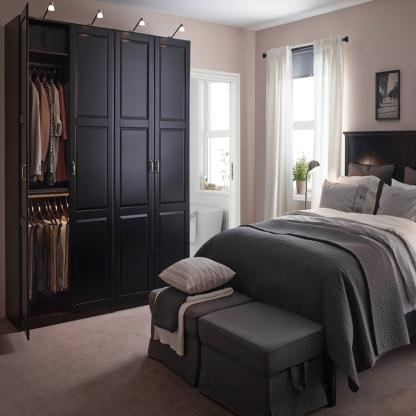Bed: (198, 126, 416, 410)
